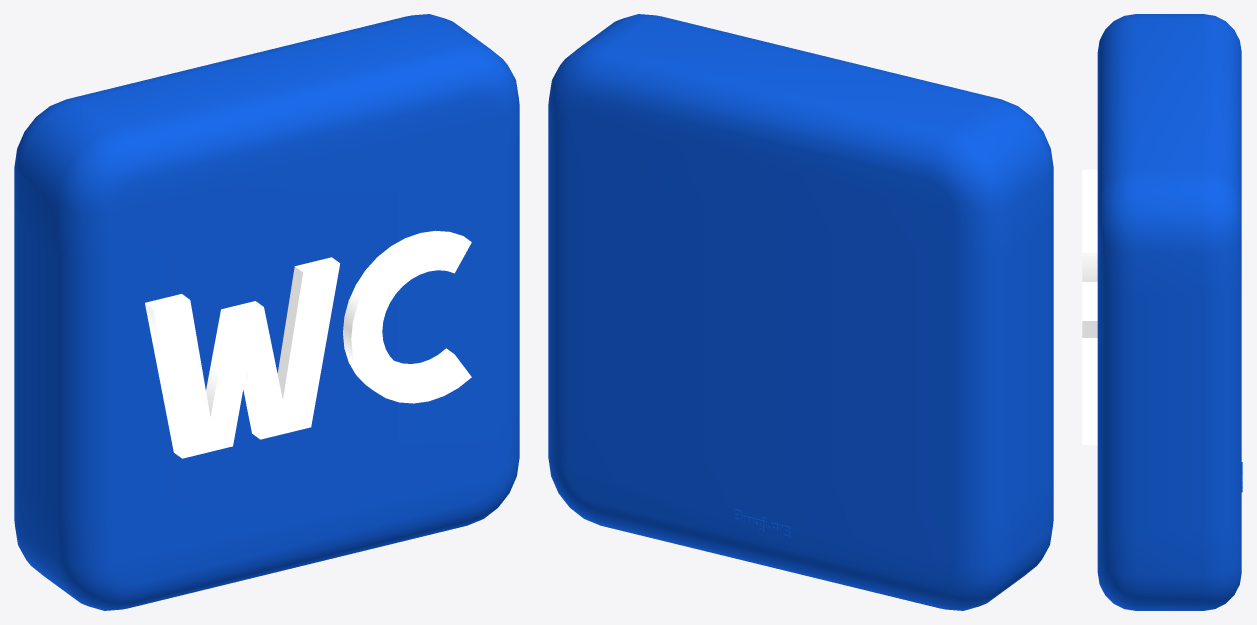
Rendered from water_closet.glb.
The picture shows the model from 3 angles, left to right: view 1: azimuth 30°, elevation 25°; view 2: azimuth 150°, elevation 25°; view 3: azimuth 270°, elevation 25°; orthographic projection. The views are drawn at different scales.
Visible parts, largest first — view 1: Cube.172; view 2: Cube.172; view 3: Cube.172.
Part boxes in pixels (left/top/right/bottom): Cube.172: left=14, top=14, right=519, bottom=610; Cube.172: left=548, top=14, right=1053, bottom=610; Cube.172: left=1082, top=14, right=1242, bottom=610.
Size of the model in its own units: 2.2 by 2.2 by 0.7337.
Materials: 1 (1 with a texture image).
